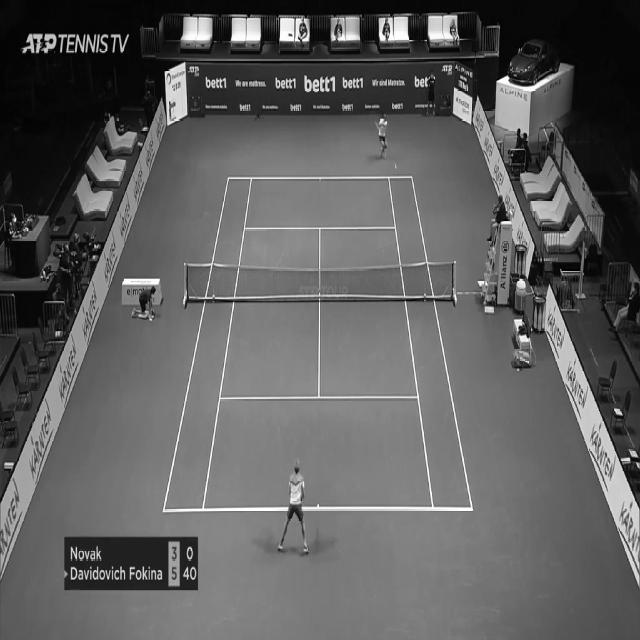tennis-court: (162, 176, 474, 512)
